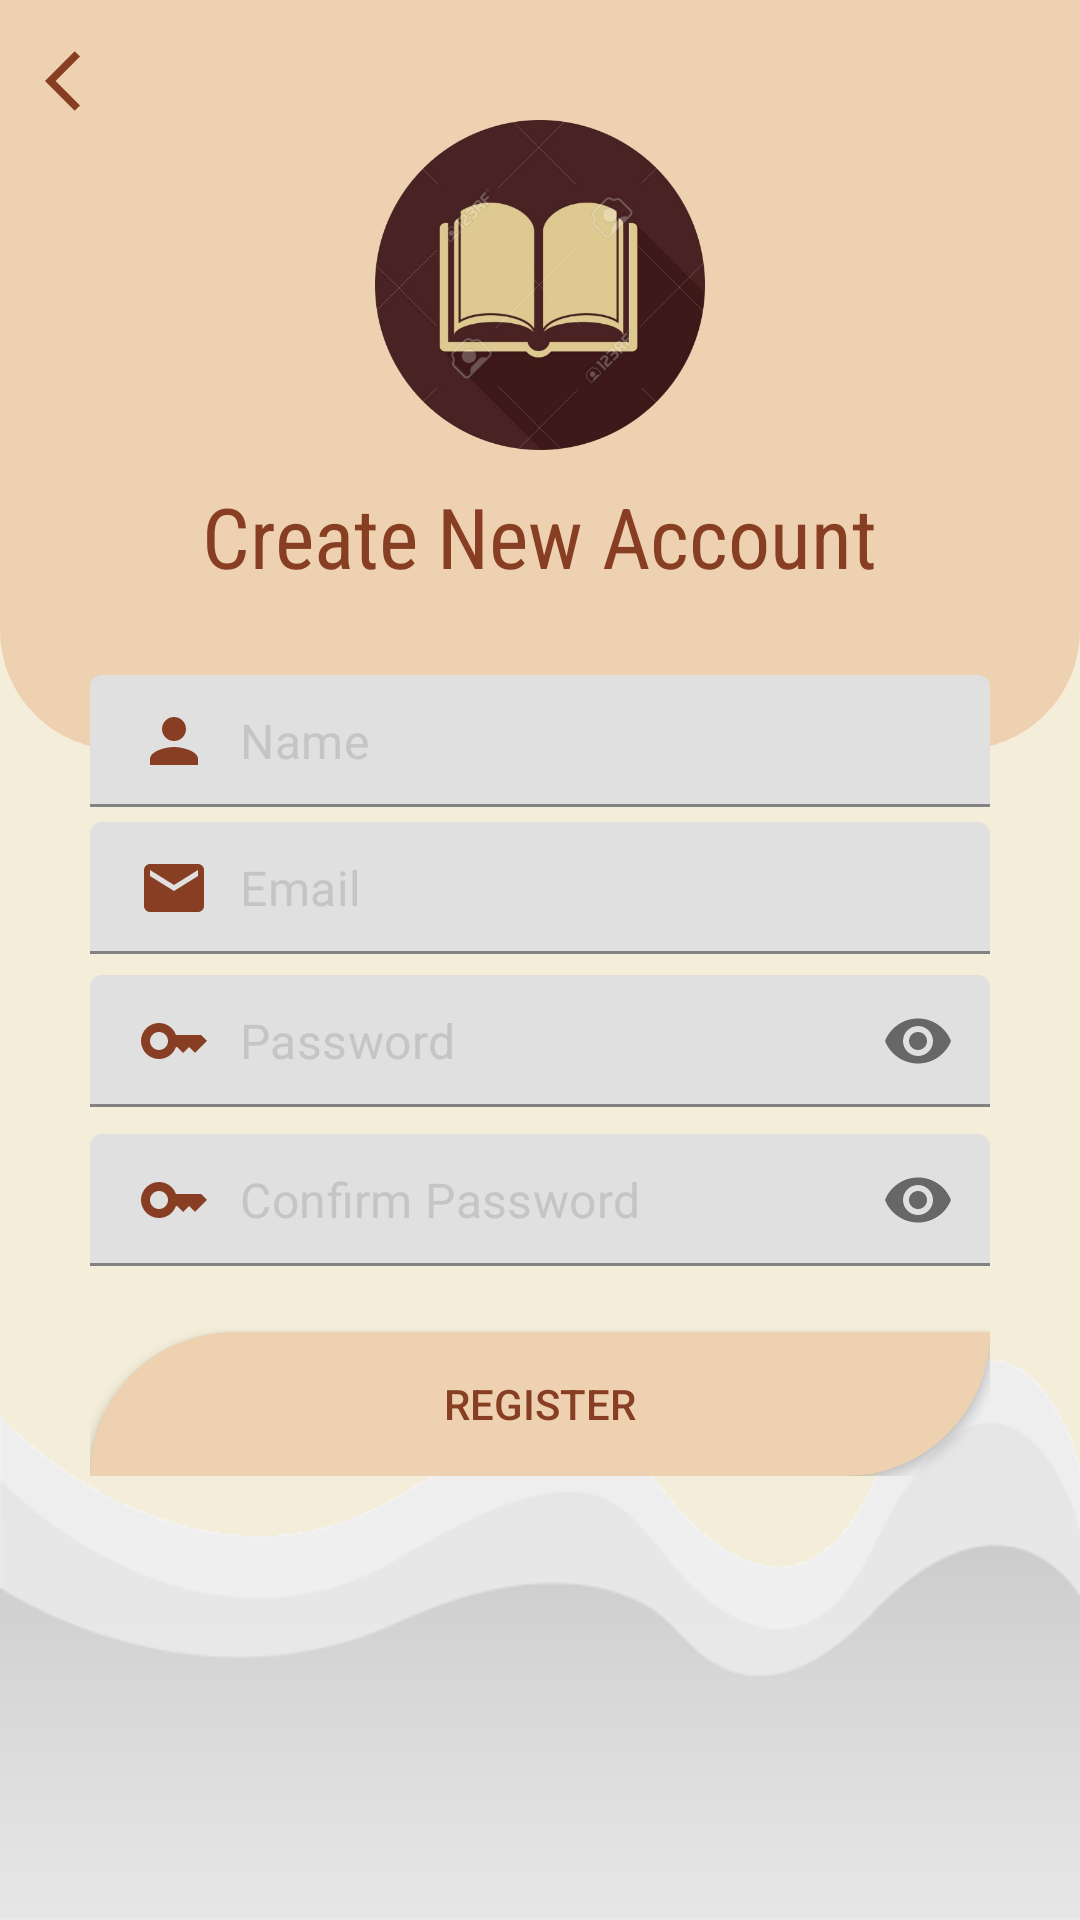

Icon bounding boxes for this 1080 x 1920 phone screenshot, format {"left": x1, "top": y1, "right": x2, "bottom": y2}:
arrow back: {"left": 45, "top": 51, "right": 80, "bottom": 111}
